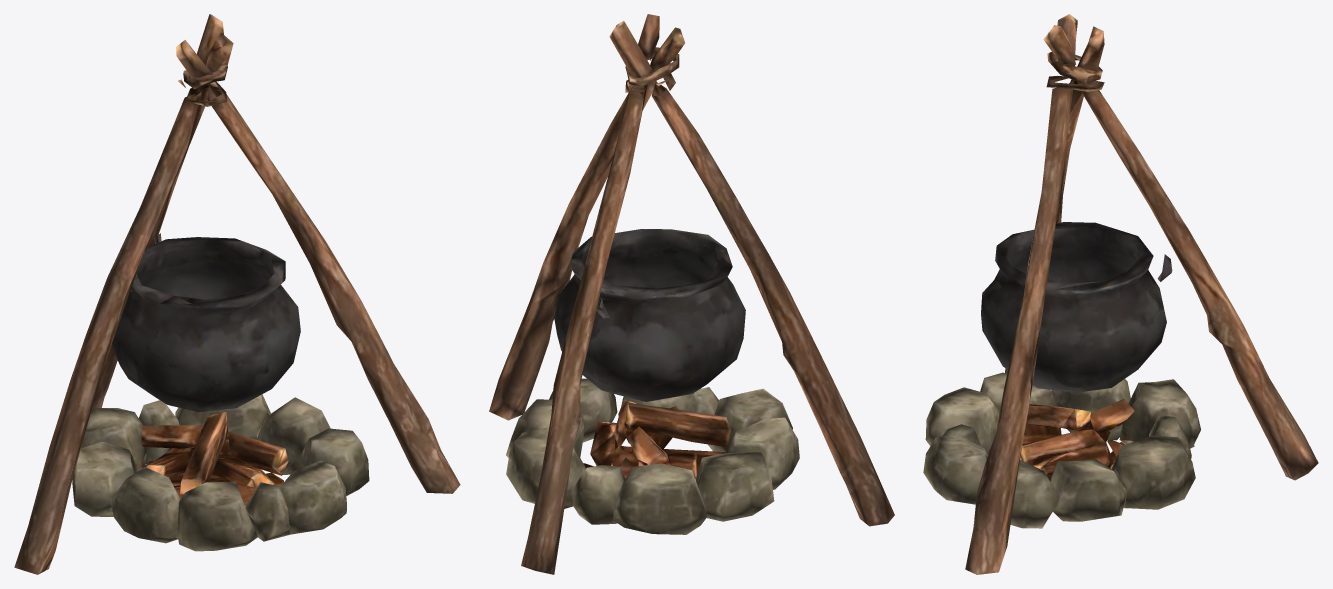
File: cauldron.phone.glb
3 renders of one model, left to right at view 1: azimuth 30°, elevation 25°; view 2: azimuth 150°, elevation 25°; view 3: azimuth 270°, elevation 25°, orthographic. The views are drawn at different scales.
Parts seen in each view (by area): view 1: cauldron.raw; view 2: cauldron.raw; view 3: cauldron.raw.
Boxes of the visible parts, bbox=[...] form: cauldron.raw: bbox=[14, 14, 460, 574]; cauldron.raw: bbox=[489, 14, 894, 574]; cauldron.raw: bbox=[923, 14, 1318, 574].
Bounding box in the file's own units: 1.57 × 1.7 × 1.31.
Materials: 1 (1 with a texture image).
